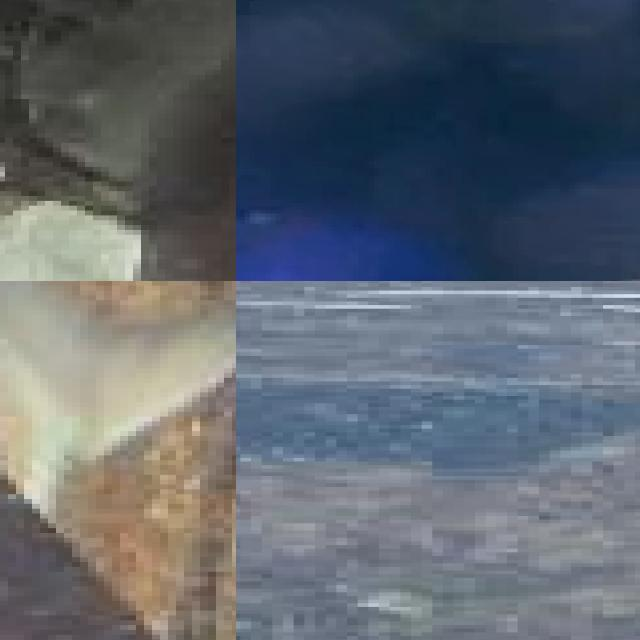fish: (236, 0, 640, 281), (0, 281, 236, 640), (5, 0, 236, 281)
